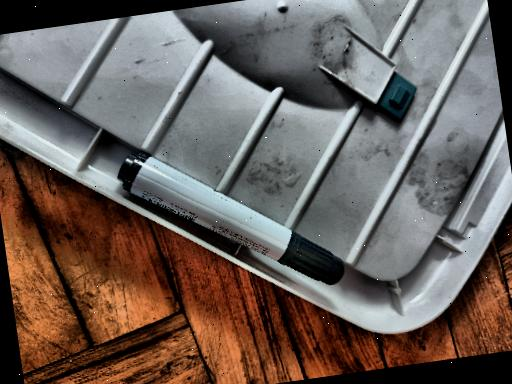marcador azul: (422, 345, 426, 350)
marcador negro: (118, 152, 345, 284)
